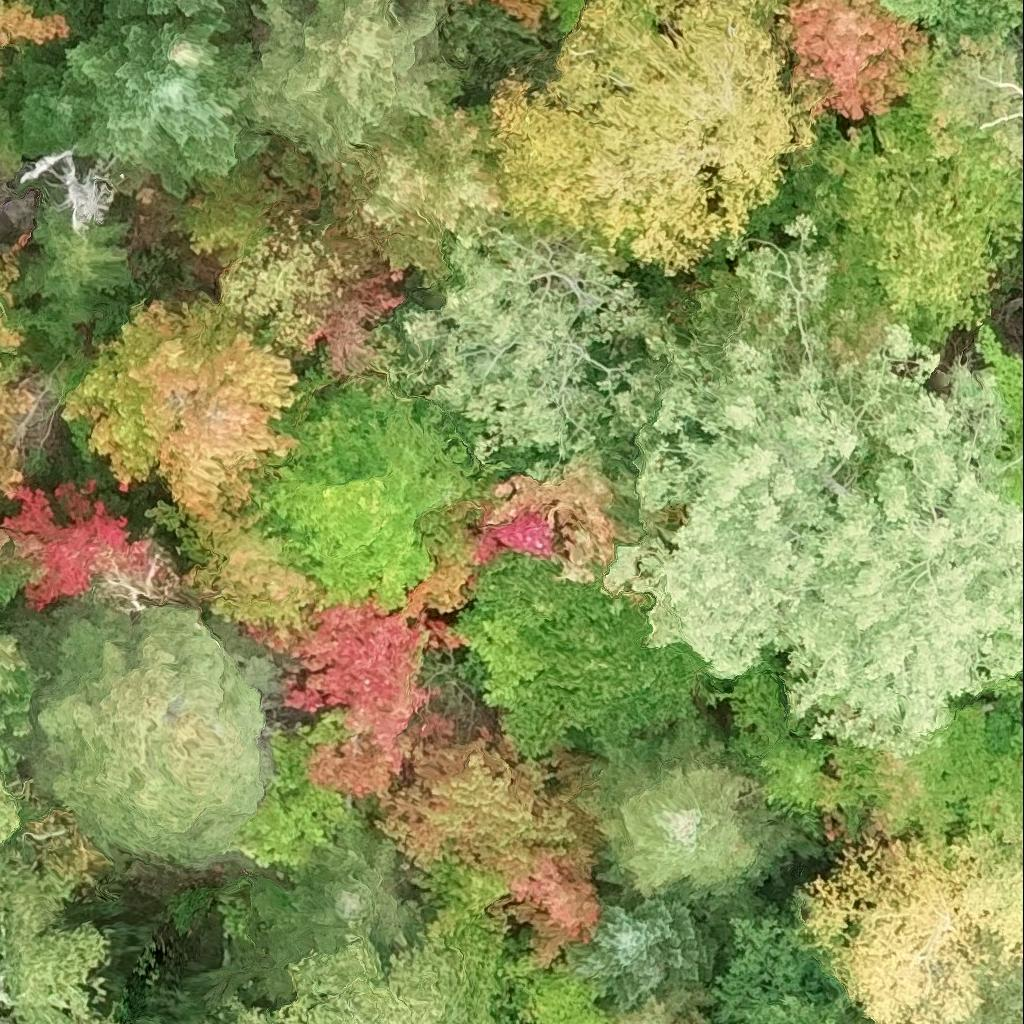crown: (405, 216, 1023, 762), (494, 0, 820, 266), (691, 120, 1019, 352), (734, 661, 1023, 865), (40, 605, 267, 864), (59, 291, 300, 521), (378, 715, 598, 957), (251, 382, 477, 605), (469, 552, 717, 754), (799, 833, 1023, 1023), (234, 0, 466, 183), (59, 20, 269, 198), (260, 592, 431, 799), (229, 917, 508, 1023), (584, 733, 759, 889), (854, 148, 1000, 327), (0, 849, 129, 1023), (0, 479, 167, 607), (229, 710, 358, 864), (257, 849, 409, 964), (785, 7, 925, 121), (562, 901, 715, 1004), (0, 47, 93, 159), (979, 324, 1023, 501), (883, 0, 1023, 48), (0, 738, 39, 857), (106, 0, 228, 33), (0, 633, 31, 746), (981, 74, 1023, 131), (751, 1000, 836, 1023), (45, 0, 65, 4)
